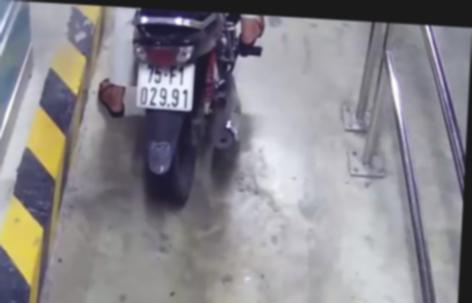License_Plate: (125, 56, 204, 116)
